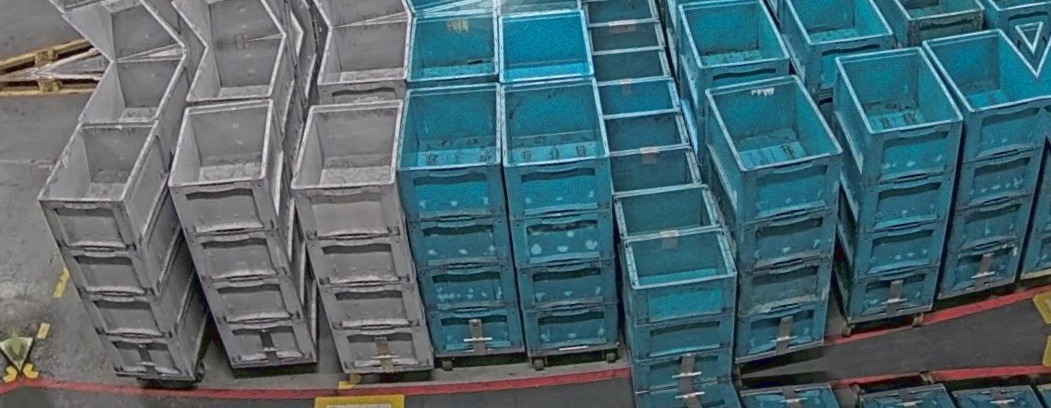4G: (25, 107, 216, 399), (158, 93, 330, 378), (278, 91, 444, 384)
B4: (801, 39, 991, 320), (696, 68, 873, 357), (383, 75, 538, 366), (490, 71, 638, 361), (897, 23, 1051, 300)
B8: (606, 180, 753, 393)
